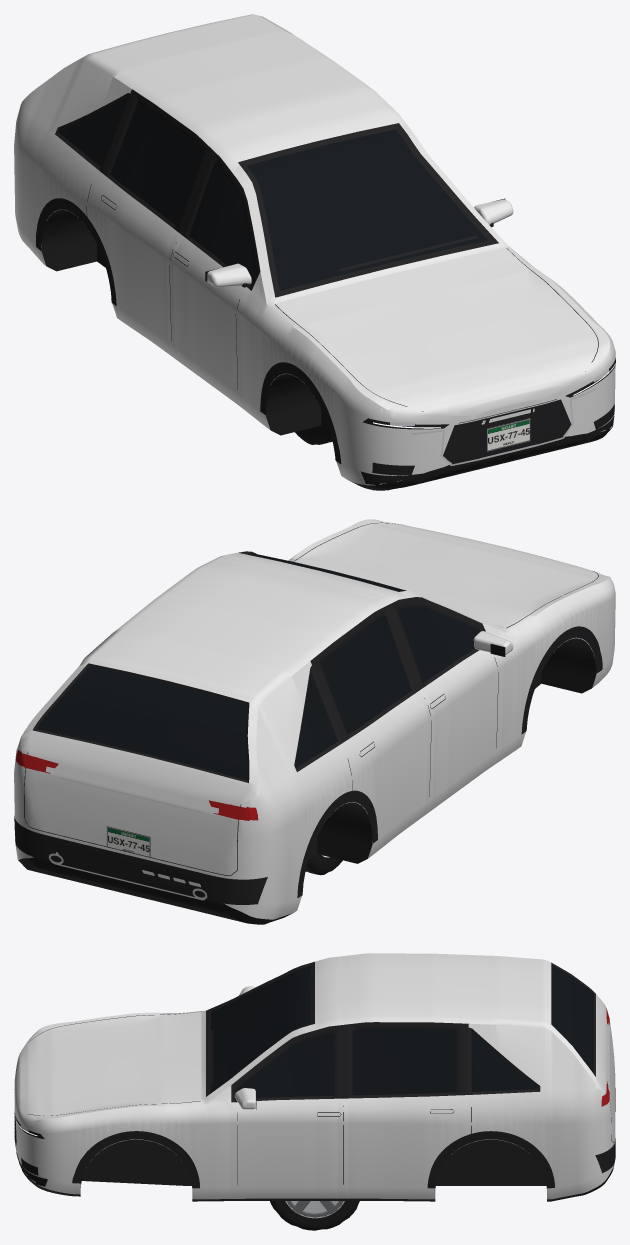
Rendered from mazda-cx-5.glb.
The picture shows the model from 3 angles, top to bottom: view 1: azimuth 30°, elevation 25°; view 2: azimuth 150°, elevation 25°; view 3: azimuth 270°, elevation 25°; orthographic projection. The views are drawn at different scales.
Visible parts, largest first — view 1: body; view 2: body; view 3: body, wheel.
Part boxes in pixels (x1,y1,x2,y2): body: [14, 14, 615, 490]; body: [14, 519, 615, 924]; body: [14, 953, 615, 1201]; wheel: [270, 1201, 359, 1230].
Size of the model in its own units: 2.08 by 2.04 by 4.58.
1 material, 1 textured.
